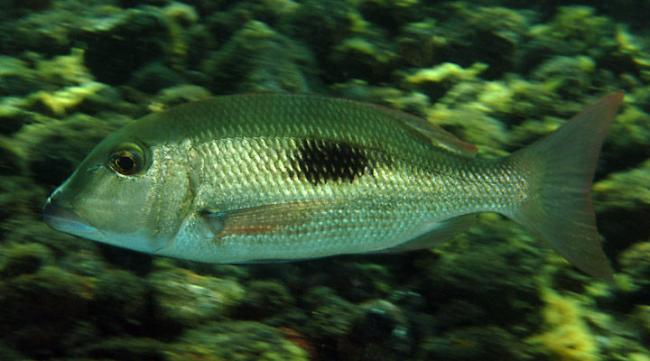fish: (42, 91, 625, 286)
